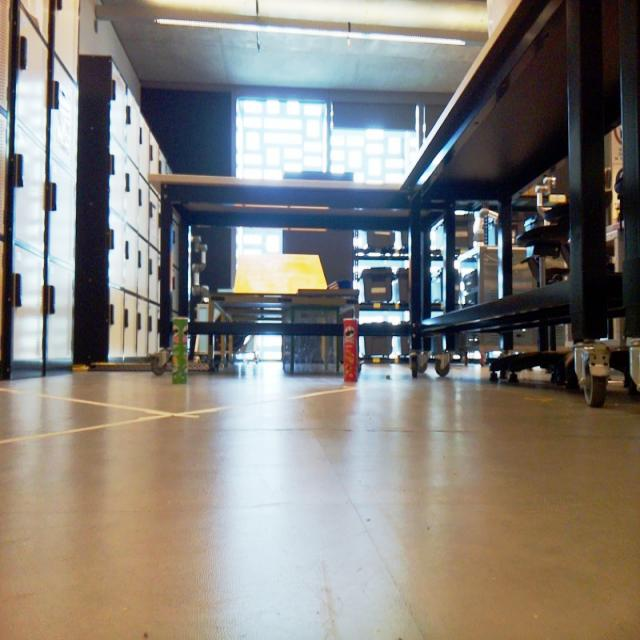greenpringles: (169, 312, 197, 384)
redpringles: (335, 313, 365, 386)
